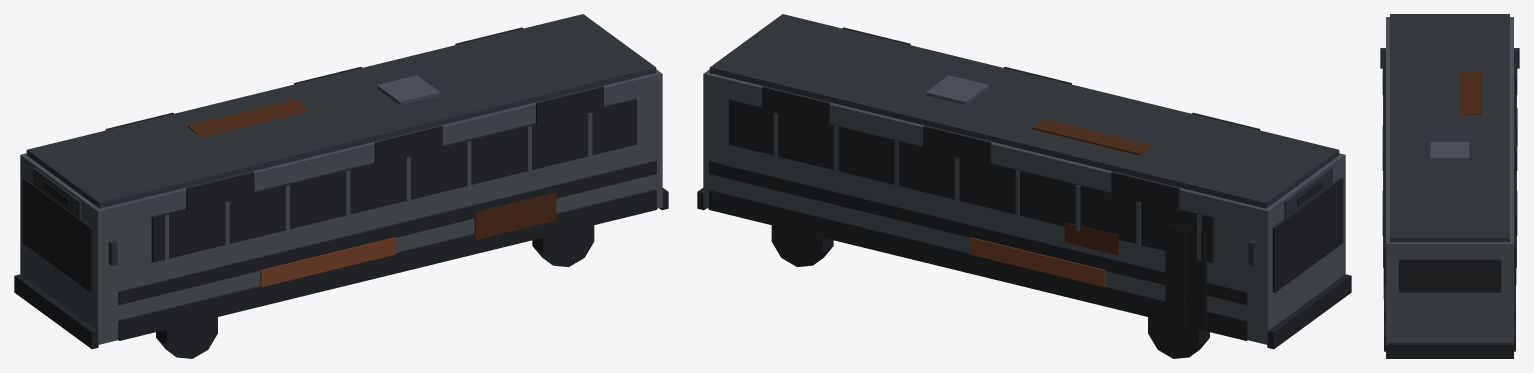
Rendered from env_bus_burnt.fbx.
The picture shows the model from 3 angles, left to right: view 1: azimuth 30°, elevation 25°; view 2: azimuth 150°, elevation 25°; view 3: azimuth 270°, elevation 25°; orthographic projection. The views are drawn at different scales.
Visible parts, largest first — view 1: env_bus_burnt; view 2: env_bus_burnt; view 3: env_bus_burnt.
Part boxes in pixels (x1,y1,x2,y2): env_bus_burnt: (14,14,668,358); env_bus_burnt: (697,14,1351,358); env_bus_burnt: (1380,14,1519,358).
Size of the model in its own units: 4290 by 1275 by 1090.
